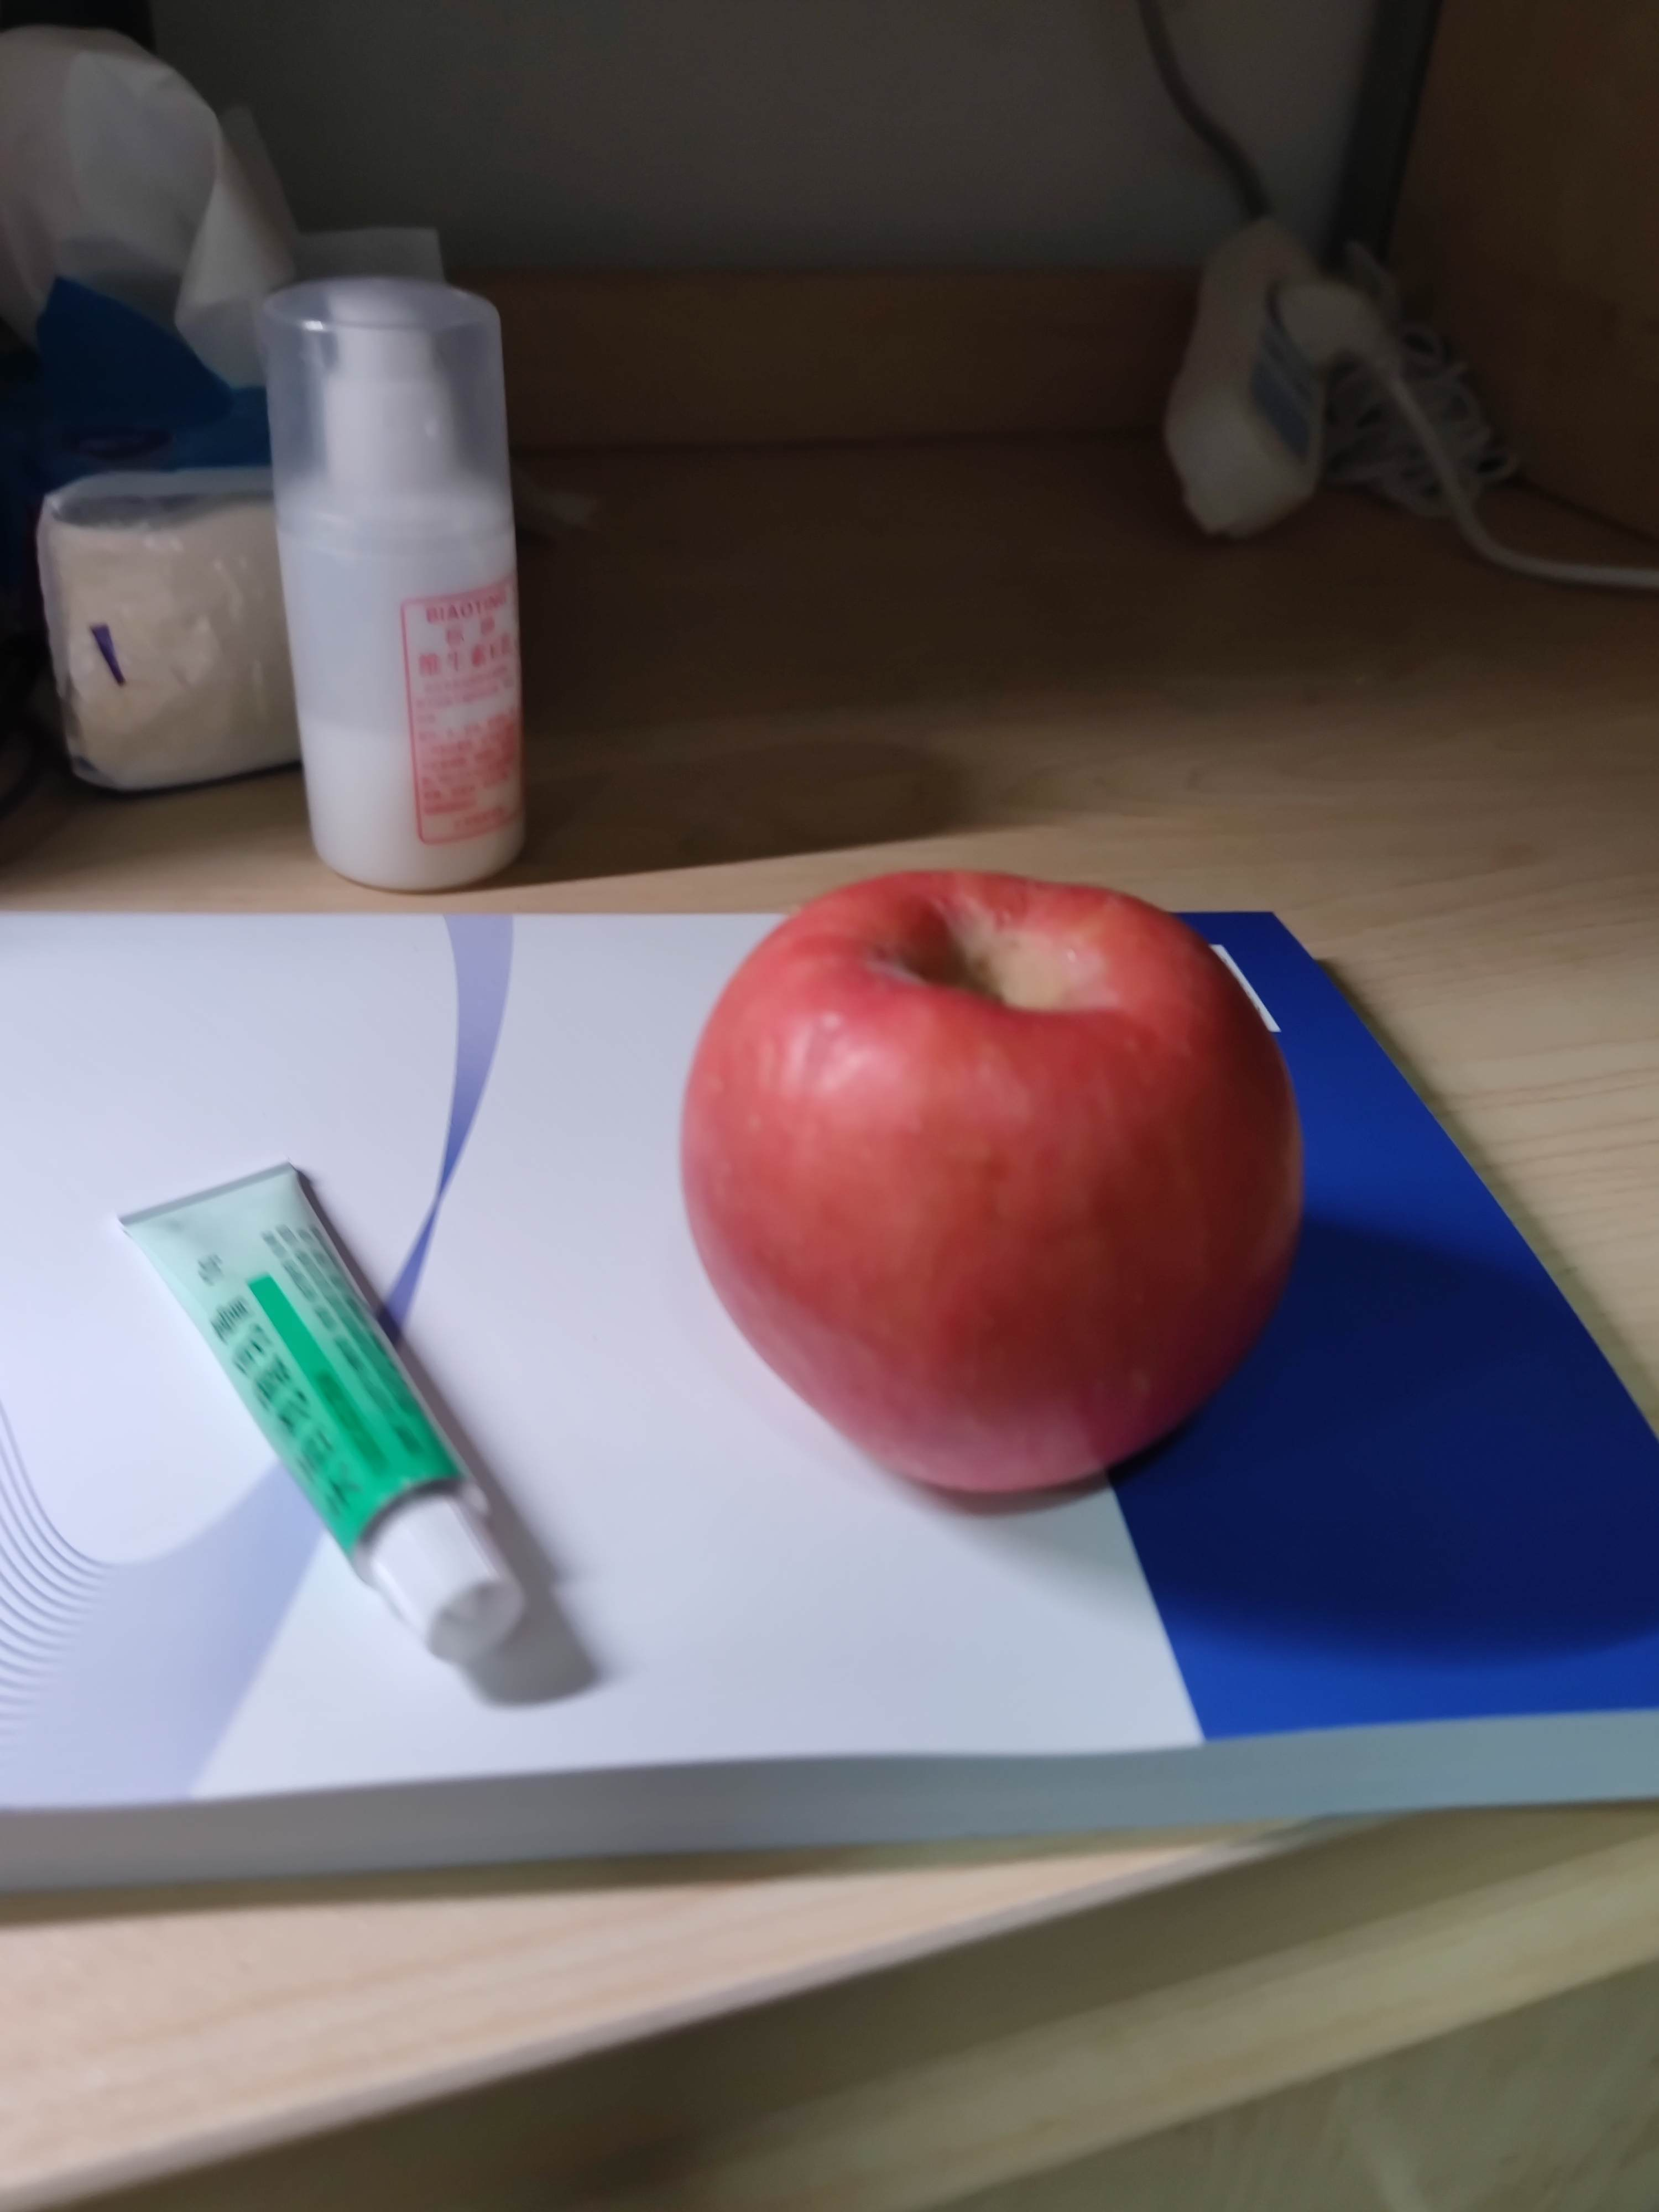apple: (674, 880, 1314, 1514)
